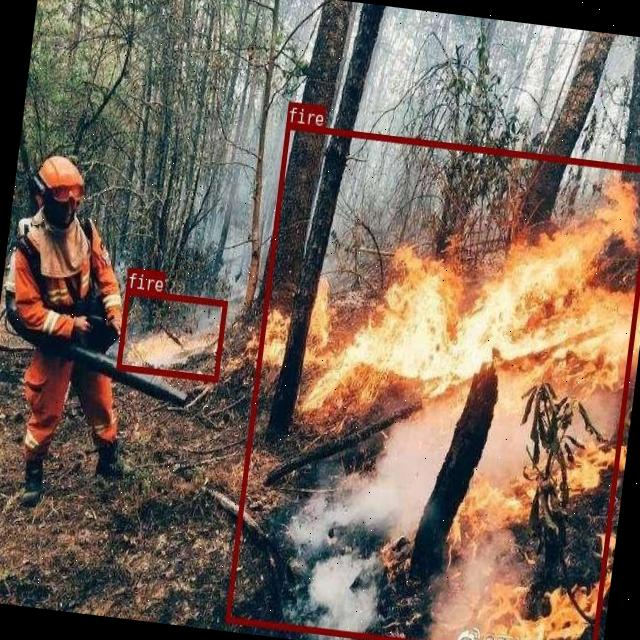fire: (225, 121, 640, 640), (116, 287, 227, 380)
